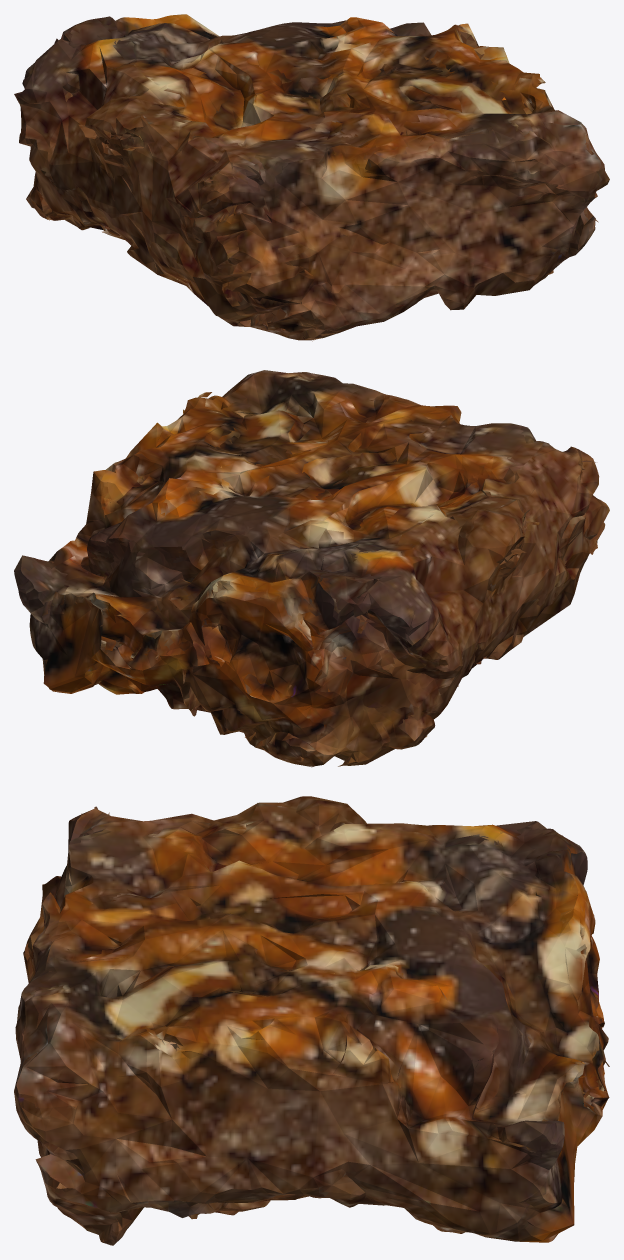
Rendered from chocolate-pretzel-rice-crispy.gltf.
3 renders of one model, top to bottom at view 1: azimuth 30°, elevation 25°; view 2: azimuth 150°, elevation 25°; view 3: azimuth 270°, elevation 25°, orthographic. The views are drawn at different scales.
Parts seen in each view (by area): view 1: model_New Qlone_lp_20211023_123520384; view 2: model_New Qlone_lp_20211023_123520384; view 3: model_New Qlone_lp_20211023_123520384.
Part boxes in pixels (left/top/right/bottom): model_New Qlone_lp_20211023_123520384: left=14, top=14, right=609, bottom=341; model_New Qlone_lp_20211023_123520384: left=14, top=370, right=609, bottom=767; model_New Qlone_lp_20211023_123520384: left=14, top=796, right=609, bottom=1245.
Size of the model in its own units: 67.9 by 29.72 by 66.68.
Materials: 1 (1 with a texture image).
